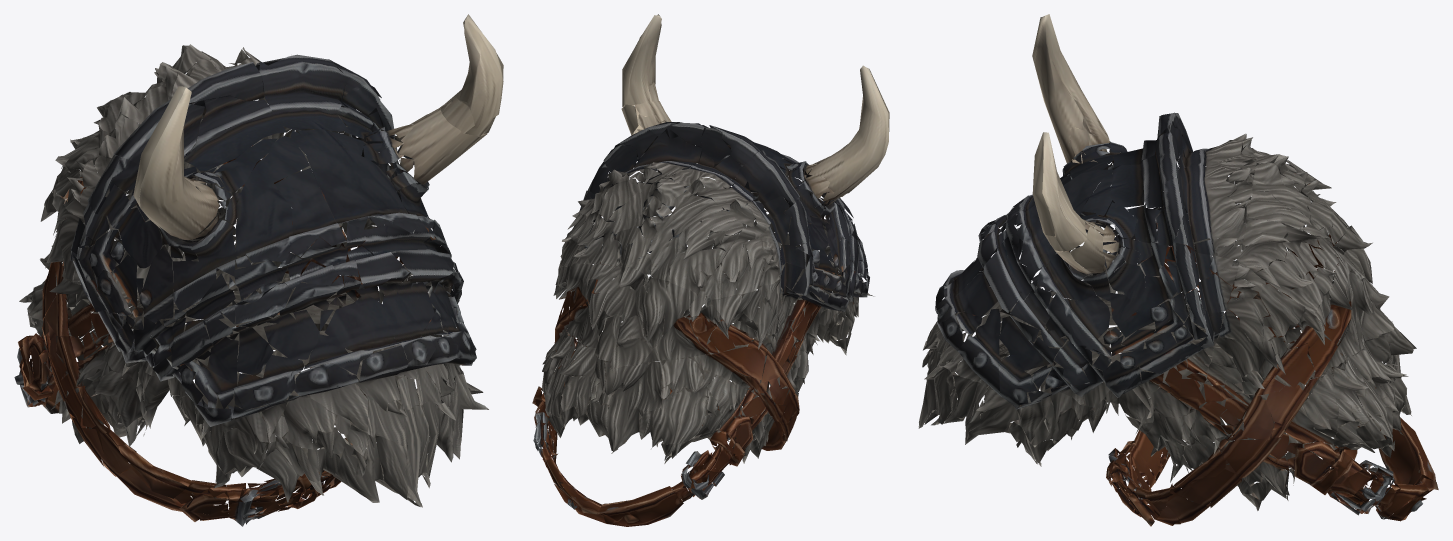
File: lo_shoulder.glb
The picture shows the model from 3 angles, left to right: view 1: azimuth 30°, elevation 25°; view 2: azimuth 150°, elevation 25°; view 3: azimuth 270°, elevation 25°; orthographic projection. The views are drawn at different scales.
Parts seen in each view (by area): view 1: Mesh_0; view 2: Mesh_0; view 3: Mesh_0.
Boxes of the visible parts, x1,y1,x2,y2 form: Mesh_0: [14, 14, 503, 526]; Mesh_0: [532, 14, 889, 526]; Mesh_0: [918, 14, 1438, 526].
Bounding box in the file's own units: 1.3 × 1.74 × 1.9.
1 material, 1 textured.
